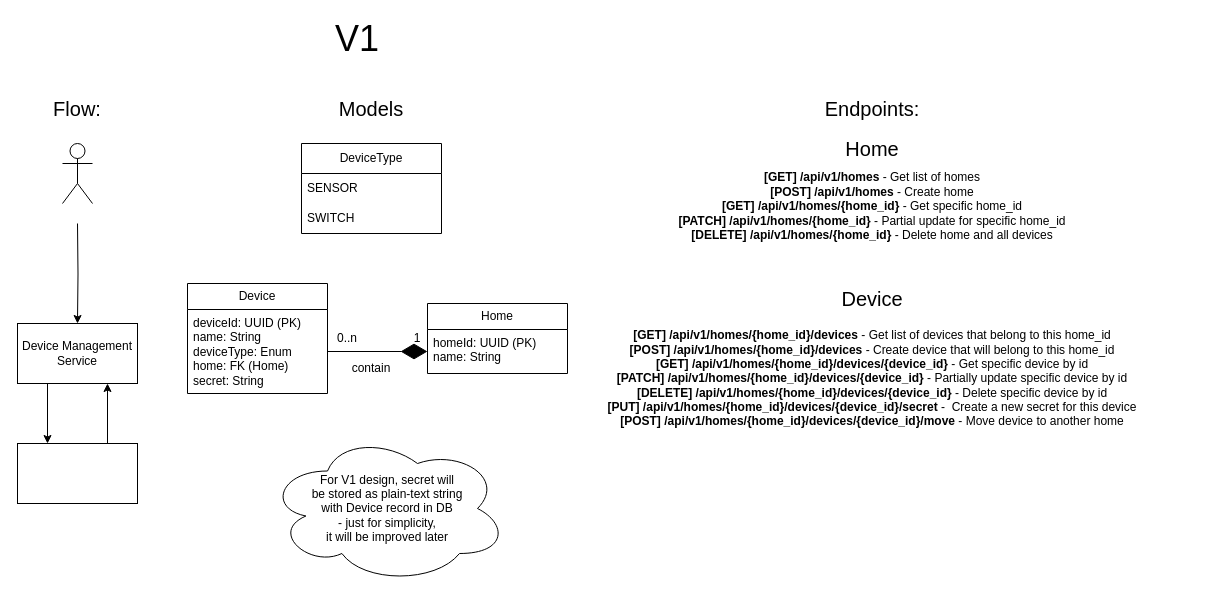
Some shapes in this 1205 by 601 pixel diagram are drawn without their labels. The shapes that lost their labels are listed below. From the top down, each one's centre as x and y in pixels, then its label:
point 77,173: User
point 77,473: PostgreSQL
